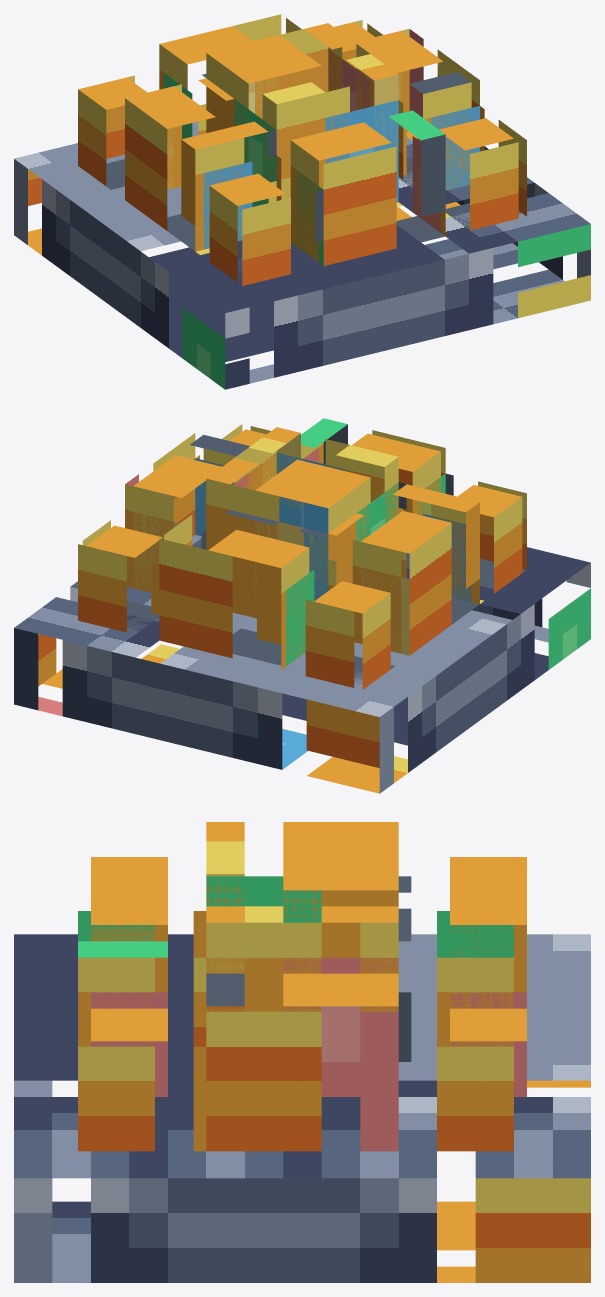
Rendered from ore 1.dae.
The picture shows the model from 3 angles, top to bottom: view 1: azimuth 30°, elevation 25°; view 2: azimuth 150°, elevation 25°; view 3: azimuth 270°, elevation 25°; orthographic projection. The views are drawn at different scales.
Visible parts, largest first — view 1: cuboid; view 2: cuboid; view 3: cuboid.
Part boxes in pixels (<box>): cuboid: <box>14,14,590,389</box>; cuboid: <box>14,418,590,793</box>; cuboid: <box>14,822,590,1282</box>.
Size of the model in its own units: 0.9375 by 0.5 by 0.9375.
Materials: 1 (1 with a texture image).
